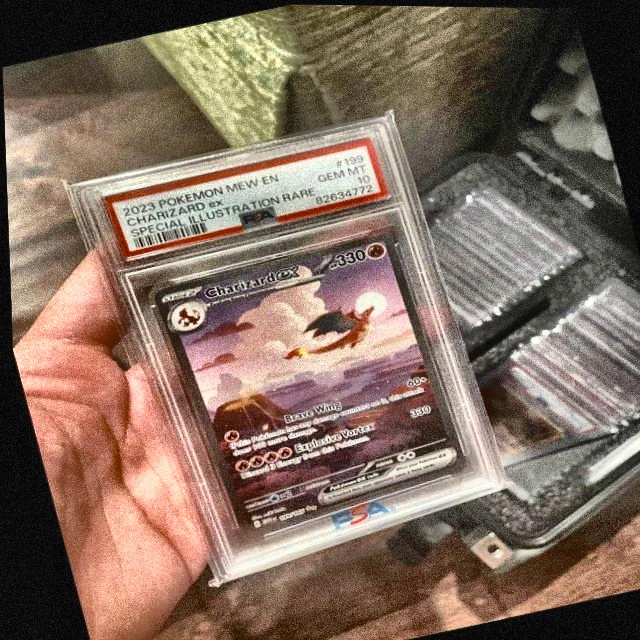card: (150, 230, 462, 537)
